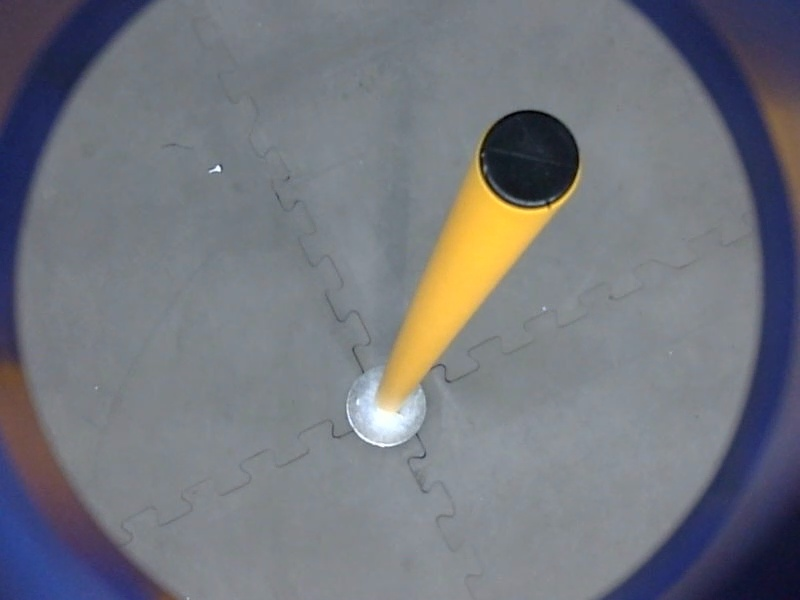tip: (474, 103, 588, 217)
